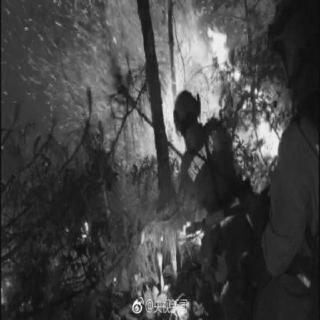Fire: (106, 3, 290, 163)
